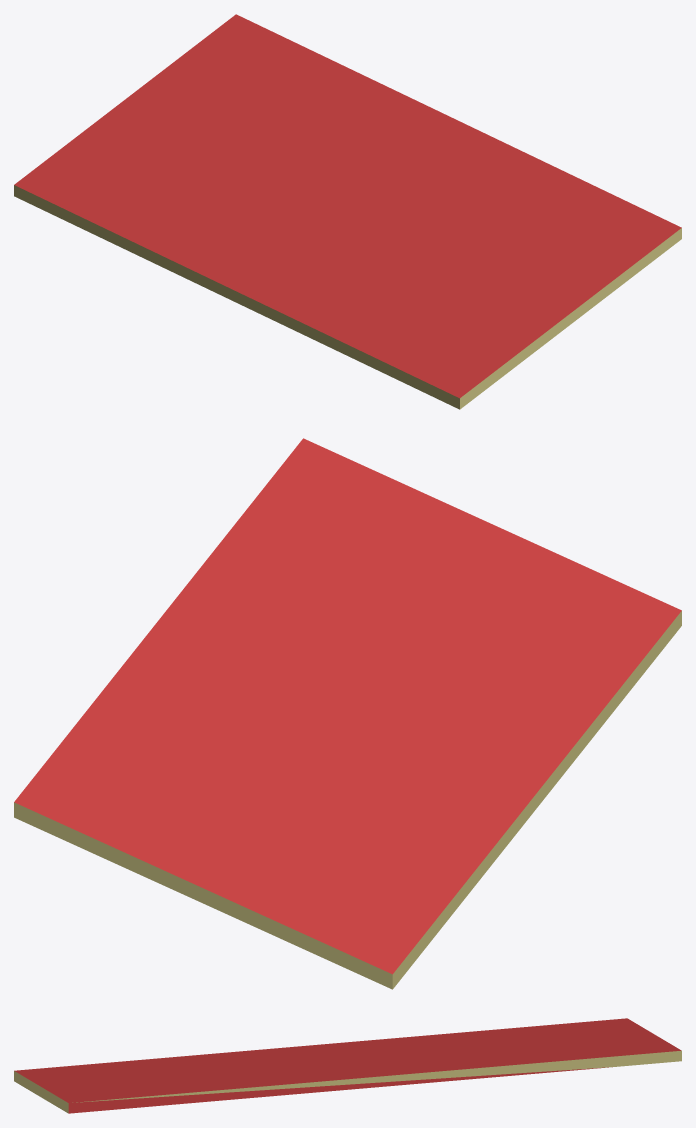
The picture shows the model from 3 angles, top to bottom: view 1: azimuth 30°, elevation 25°; view 2: azimuth 150°, elevation 25°; view 3: azimuth 270°, elevation 25°; orthographic projection. The views are drawn at different scales.
Bounding box in the file's own units: 3.39 × 5.75 × 0.875.
